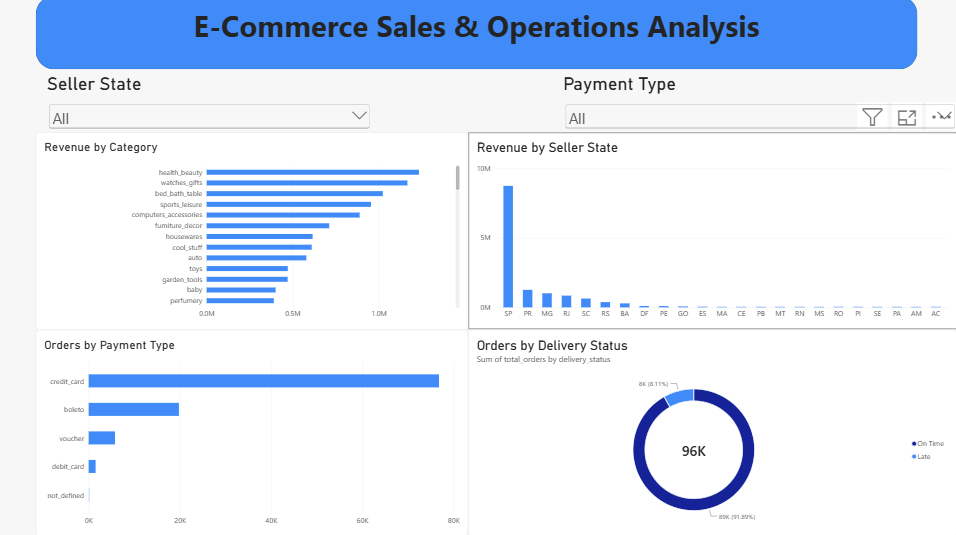

The page's visual inventory and layout, read from the dashboard file:
{"tool":"powerbi","page":{"name":"Page 2","canvas":[1920,1080],"ordinal":1},"visuals":[{"type":"clusteredBarChart","title":"Revenue by Category","fields":{"Category":["public vw_category_sales.category"],"Y":["Sum(public vw_category_sales.revenue)"]},"box":[77.5,272.5,865,395],"z":0},{"type":"clusteredBarChart","title":"Orders by Payment Type","fields":{"Category":["public vw_payment_analysis.payment_type"],"Y":["Sum(public vw_payment_analysis.payment_count)"]},"box":[77.5,667.5,865,412.5],"z":1000},{"type":"clusteredColumnChart","title":"Revenue by Seller State","fields":{"Category":["public vw_seller_performance.seller_state"],"Y":["Sum(public vw_seller_performance.revenue)"]},"box":[942.5,272.5,977.5,395],"z":2000},{"type":"donutChart","title":"Orders by Delivery Status","fields":{"Category":["public vw_delivery_performance.delivery_status"],"Y":["Sum(public vw_delivery_performance.total_orders)"]},"box":[942.5,667.5,977.5,412.5],"z":3000},{"type":"textbox","box":[0,0,1752.5,145],"z":4000},{"type":"textbox","box":[1763,0,157,190],"z":5000},{"type":"shape","box":[76.7,0,1763.3,146.7],"z":6000},{"type":"textbox","box":[1763,190,157,400],"z":7000},{"type":"textbox","box":[1763,635,157,445],"z":8000},{"type":"textbox","box":[76.7,0,1763.3,146.7],"z":9000},{"type":"slicer","title":"Seller State","fields":{"Values":["public vw_seller_performance.seller_state"]},"box":[100,155,650,152.5],"z":9001},{"type":"slicer","title":"Payment Type","fields":{"Values":["public vw_payment_analysis.payment_type"]},"box":[1132.5,155,787.5,117.5],"z":9002}]}

Visuals, with their boxes in screenshot pixels (x1, y1, x2, y2), scaled from the page's 1920x1080 canvas onto the 956x535 screenshot:
"Revenue by Category" clusteredBarChart: [39, 135, 469, 331]
"Orders by Payment Type" clusteredBarChart: [39, 331, 469, 534]
"Revenue by Seller State" clusteredColumnChart: [469, 135, 955, 331]
"Orders by Delivery Status" donutChart: [469, 331, 955, 534]
textbox: [0, 0, 873, 72]
textbox: [878, 0, 955, 94]
shape: [38, 0, 916, 73]
textbox: [878, 94, 955, 292]
textbox: [878, 315, 955, 534]
textbox: [38, 0, 916, 73]
"Seller State" slicer: [50, 77, 373, 152]
"Payment Type" slicer: [564, 77, 955, 135]
